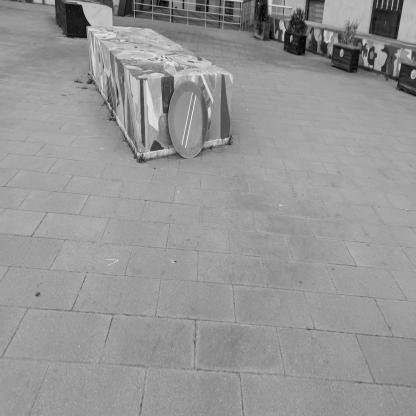No Waiting: (170, 82, 210, 160)
